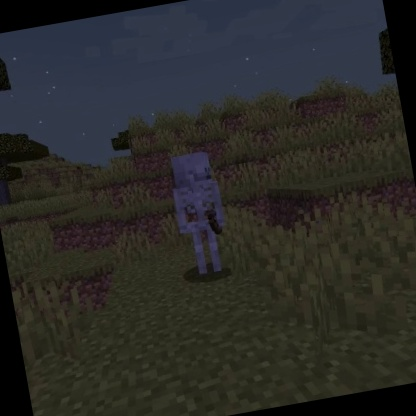skeleton: (161, 145, 240, 281)
